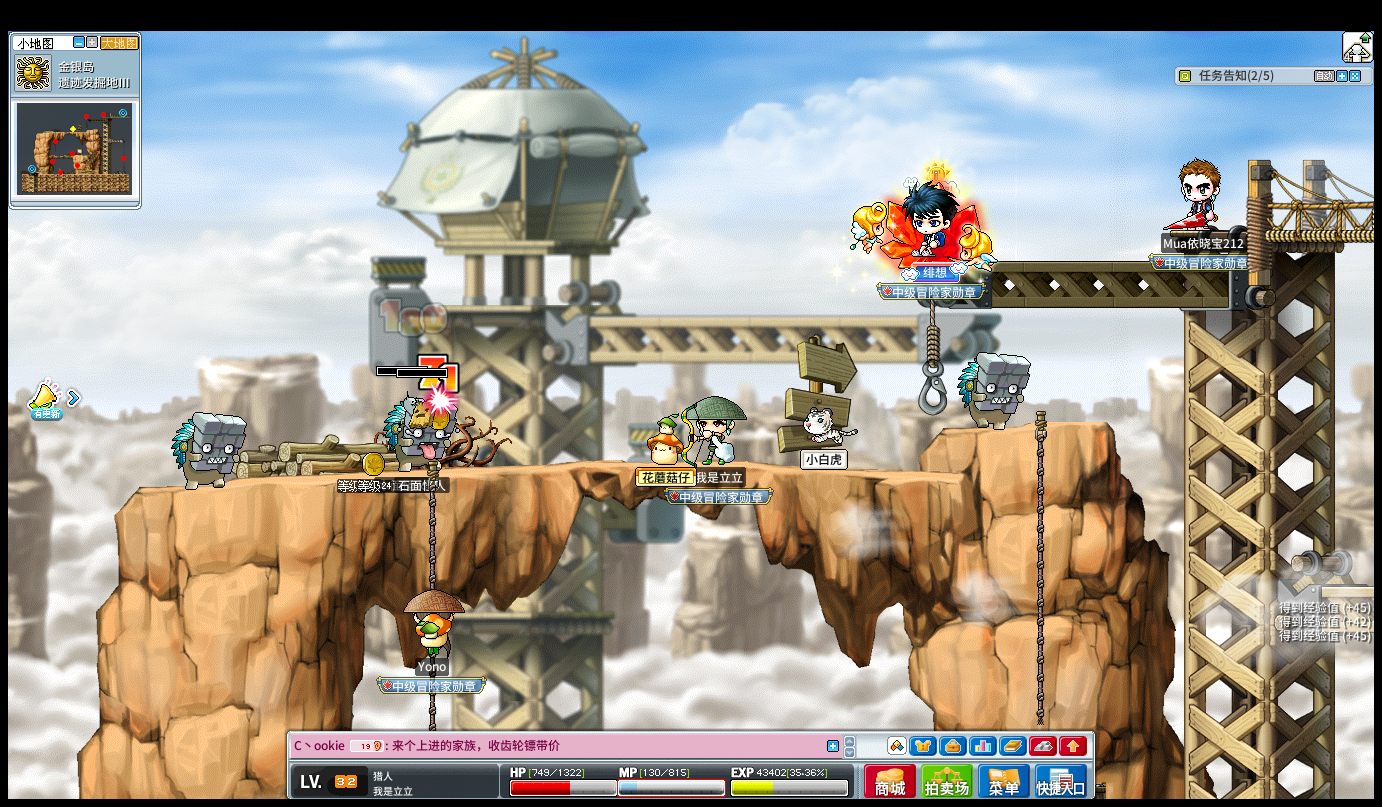floor: (162, 455, 998, 481), (930, 416, 1114, 434)
monster: (170, 411, 247, 489), (957, 351, 1031, 430), (382, 395, 455, 471)
rope: (1031, 407, 1047, 734), (425, 463, 438, 589)
